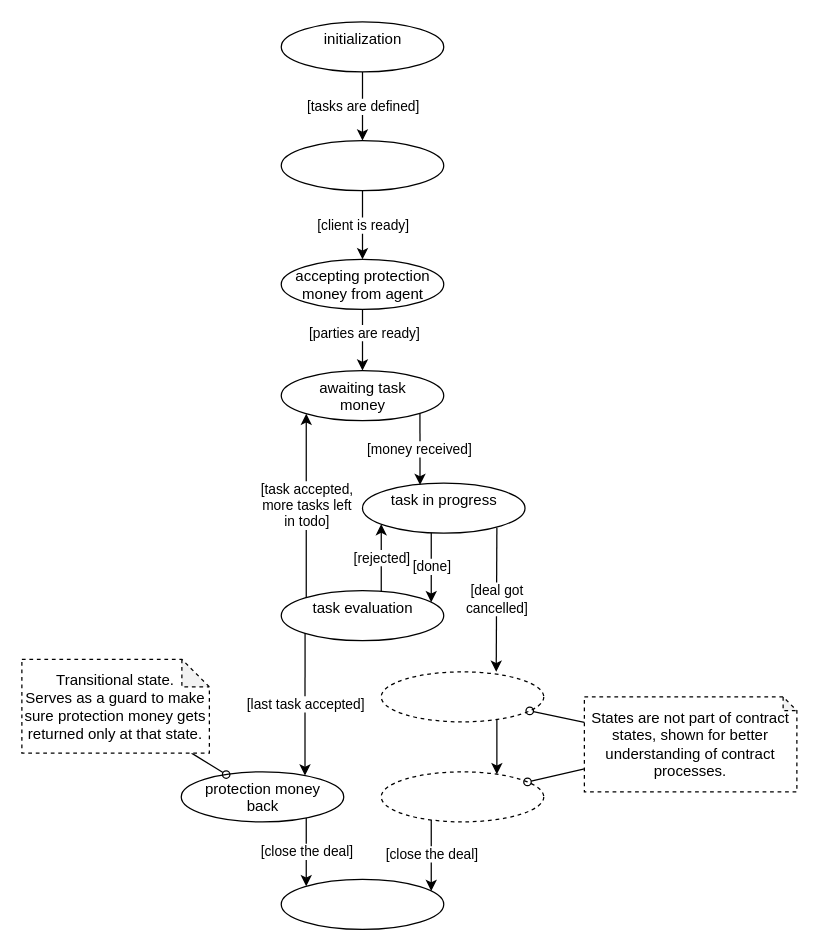
The diagram is 819 pixels wide and 951 high, and some of its shapes have lost their labels. The centre of each missing label's shape, as x and y in pixels:
accepting protection money from client: [362,165]
compensation to another party: [462,796]
reviews and ratings: [362,903]
task money back to client: [462,696]
